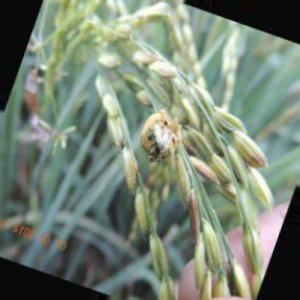Leaf_Scald: (147, 114, 182, 159)
